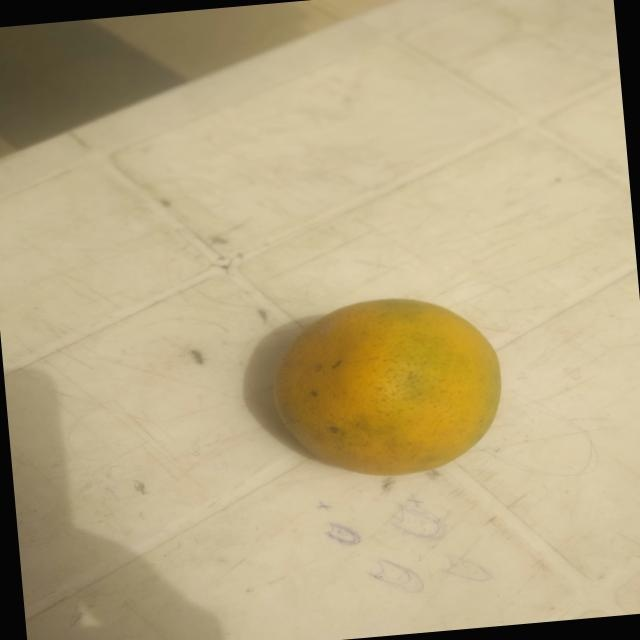agrume: (258, 266, 530, 510)
